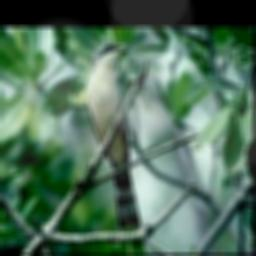Cuckoo: (86, 42, 142, 235)
